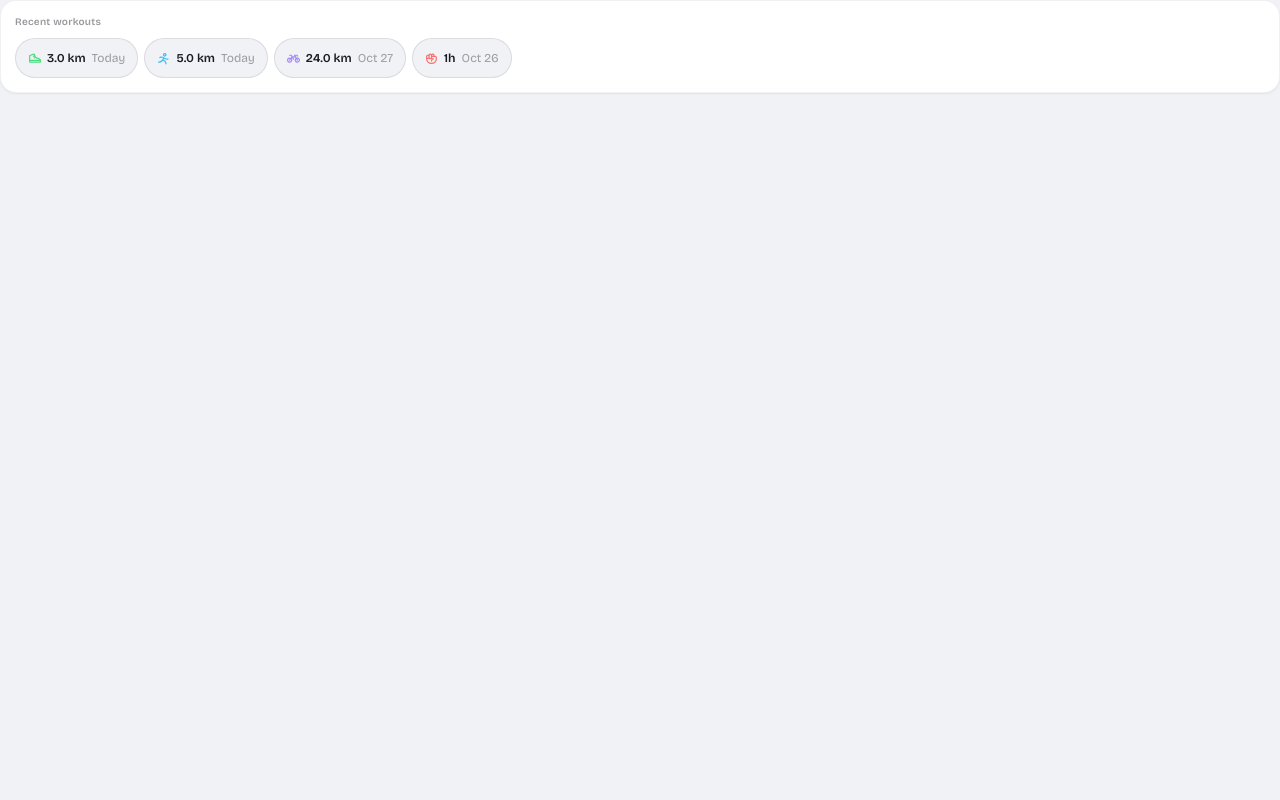
RecentWorkouts › asks for confirmation before deleting, then drops the tag
The image size is (1280, 800).
Click the button with aria-label "Runs Today: edit or delete" at (206, 58), box 144,38 -> 268,78
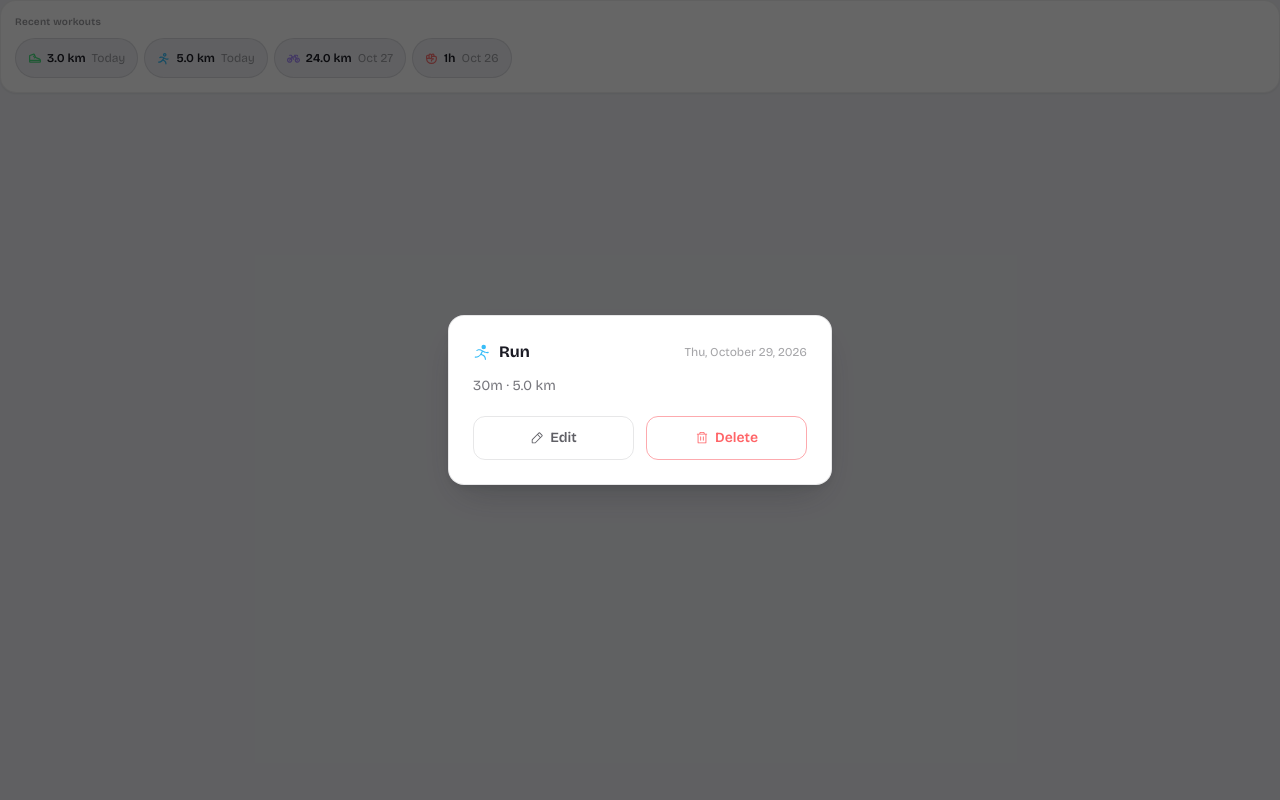
Click the button "Delete" at (726, 438), box 646,416 -> 807,460
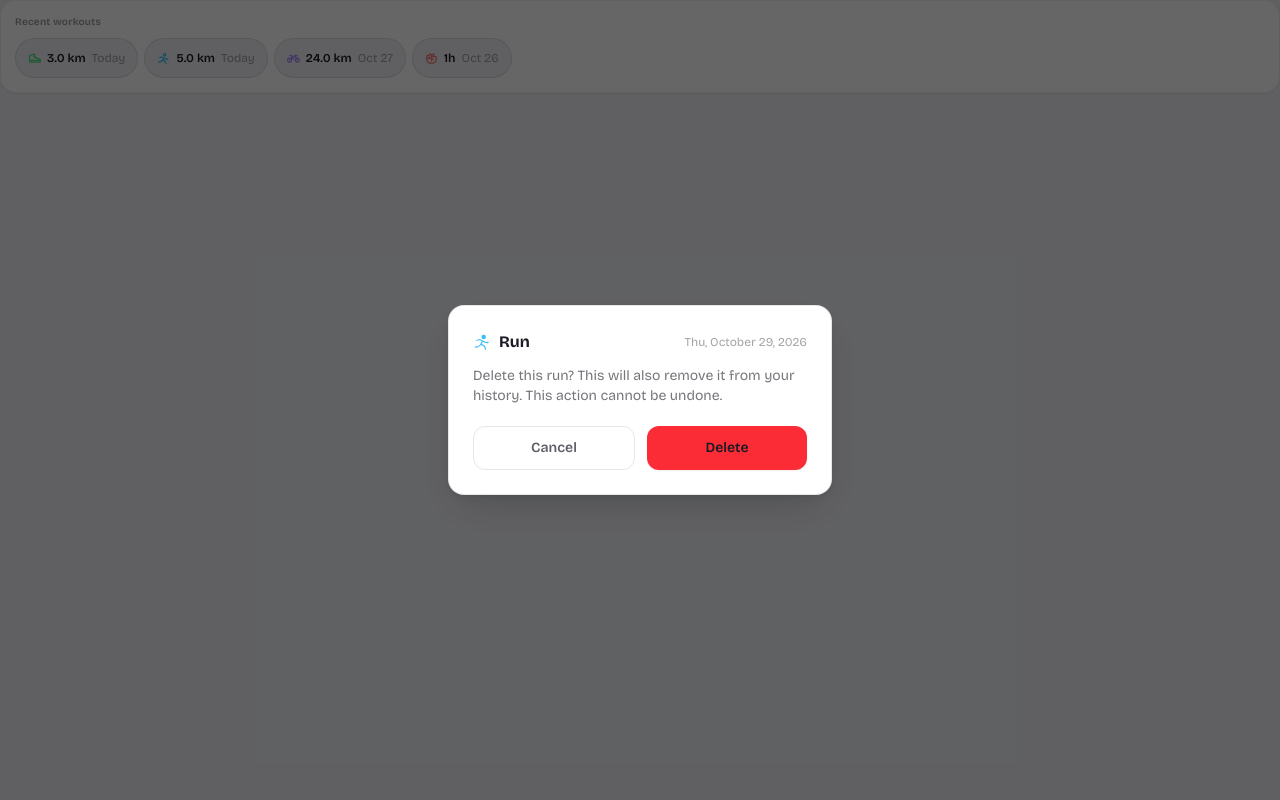
Check: the text "cannot be undone" is shown, box 473,367 -> 795,404
Click the button "Delete" at (727, 448), box 647,426 -> 807,470
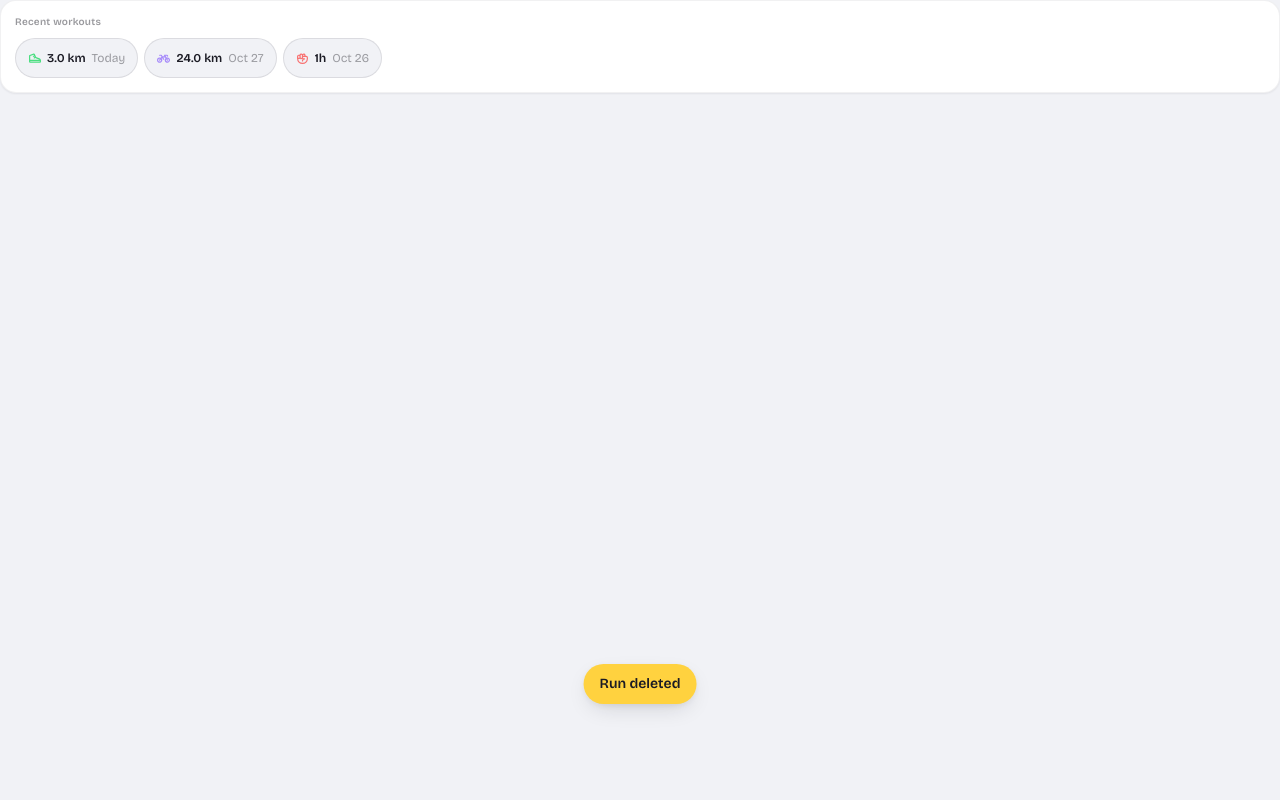
Check: the text "Run deleted" is shown, box 584,664 -> 696,704
